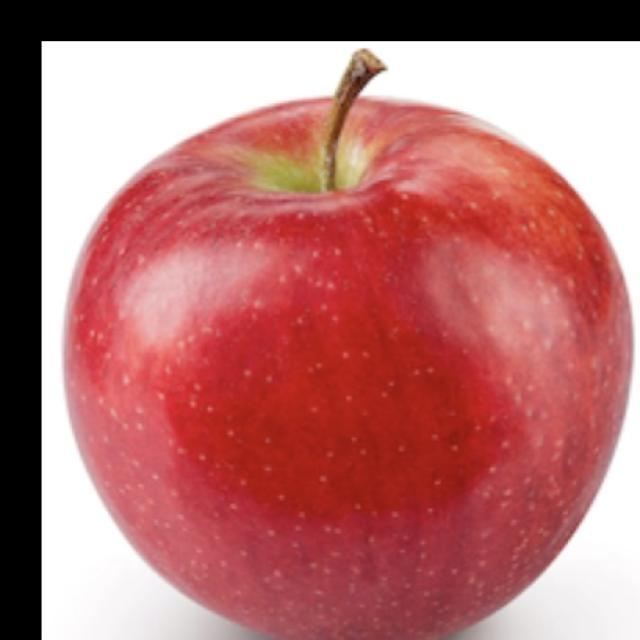Apple: (61, 47, 634, 639)
